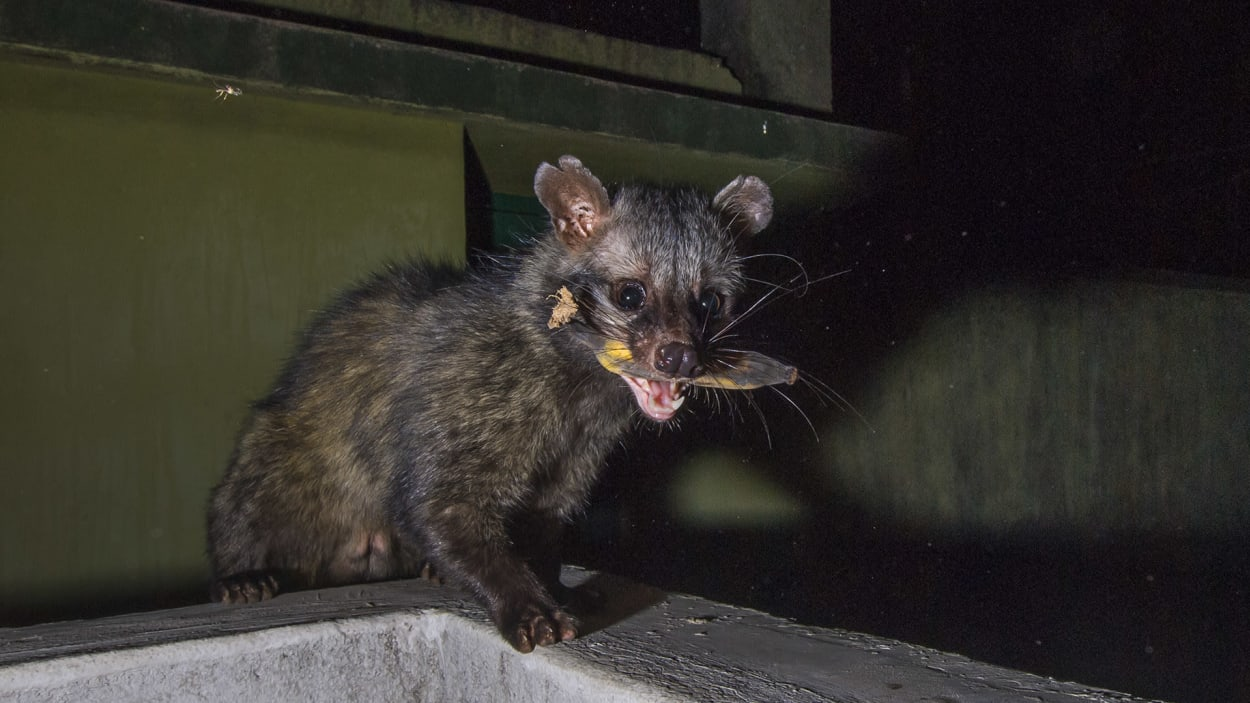Civet: (194, 132, 814, 671)
